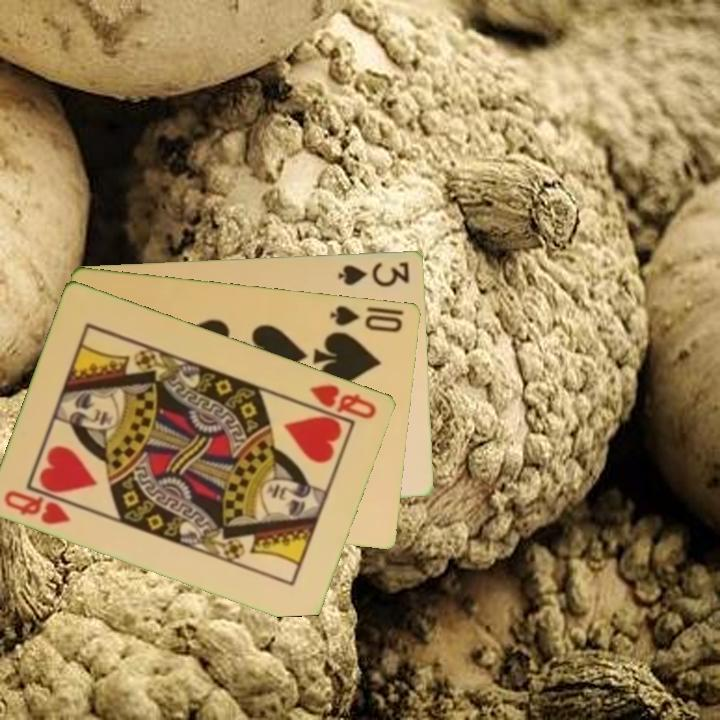10s: (327, 301, 406, 335)
3s: (334, 257, 413, 289)
Qh: (1, 485, 75, 528), (306, 380, 380, 422)
